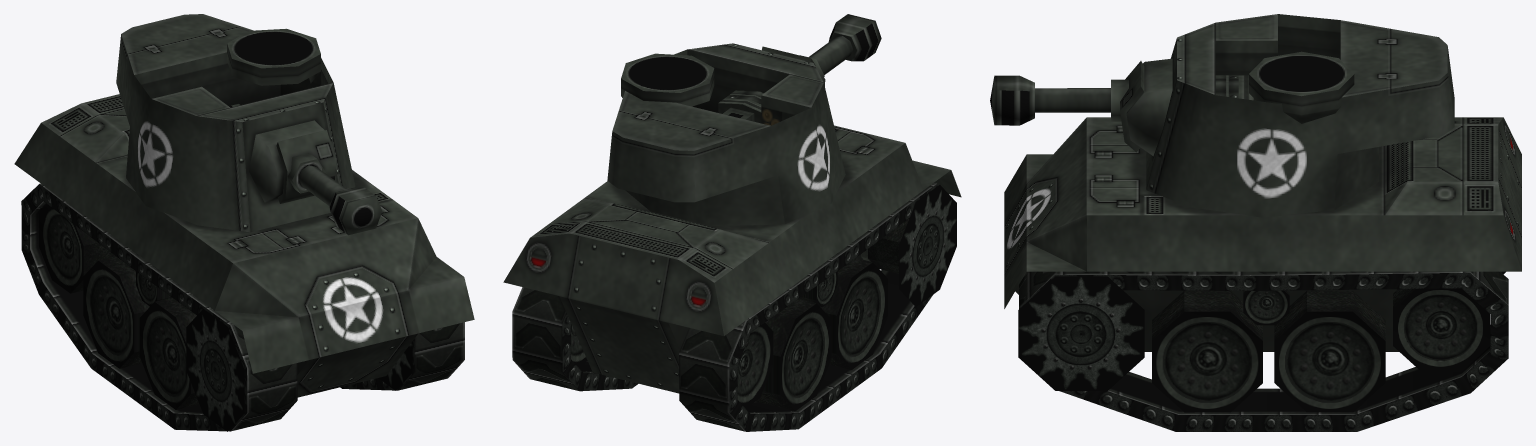
The model's file is M18_SD_Model_Track.FBX.
3 views of the same model, side by side, from view 1: azimuth 30°, elevation 25°; view 2: azimuth 150°, elevation 25°; view 3: azimuth 270°, elevation 25° (orthographic). The views are drawn at different scales.
Parts seen in each view (by area): view 1: Body, Turret, RightTrack, Cannon, LeftTrack; view 2: Body, Turret, RightTrack, LeftTrack, Cannon; view 3: LeftTrack, Body, Turret, Cannon.
Part boxes in pixels (x1,y1,x2,y2): Body: [14, 94, 474, 397]; Turret: [116, 14, 355, 232]; RightTrack: [21, 183, 297, 431]; Cannon: [229, 104, 381, 235]; LeftTrack: [340, 322, 464, 390]; Body: [503, 125, 961, 393]; Turret: [607, 43, 845, 226]; RightTrack: [679, 183, 956, 431]; LeftTrack: [512, 287, 638, 391]; Cannon: [718, 14, 881, 123]; LeftTrack: [1018, 271, 1508, 431]; Body: [1004, 117, 1521, 351]; Turret: [1126, 14, 1454, 217]; Cannon: [990, 61, 1256, 152].
Size of the model in its own units: 0.9164 by 1.18 by 1.74.
2 materials, 2 textured.
